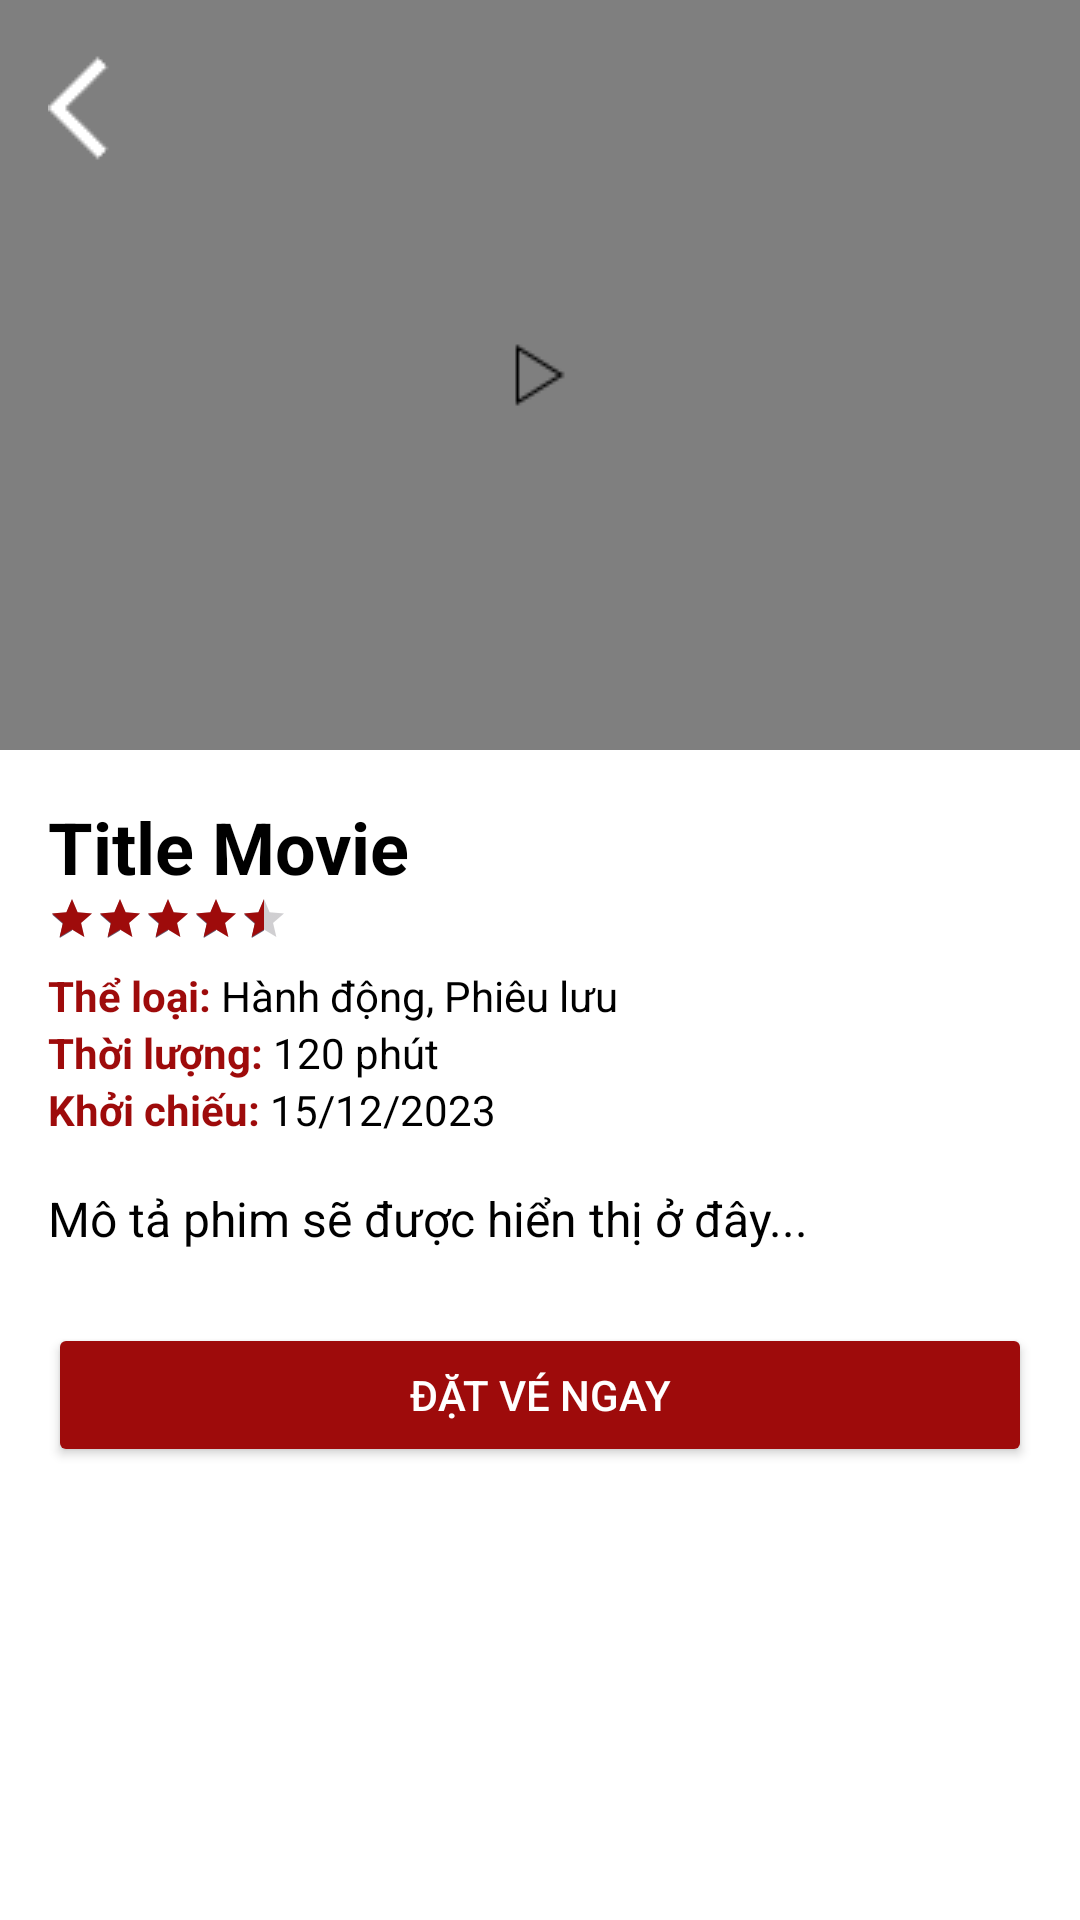

Named icons in this screenshot (1080px×1920px) and their centers, [x,y]:
Play trailer: [539,375]
Quay lại: [77,108]
